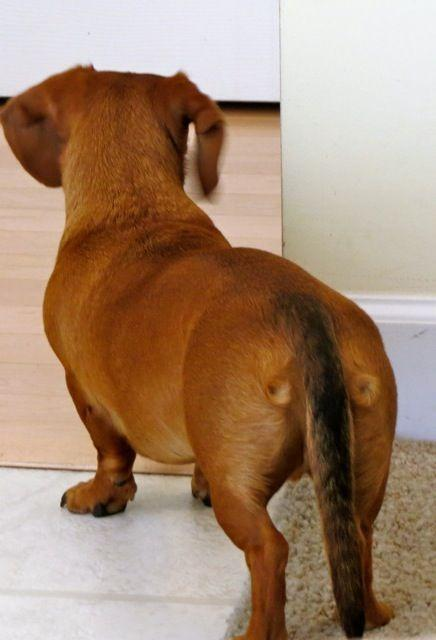adult_dog: (0, 63, 395, 640)
